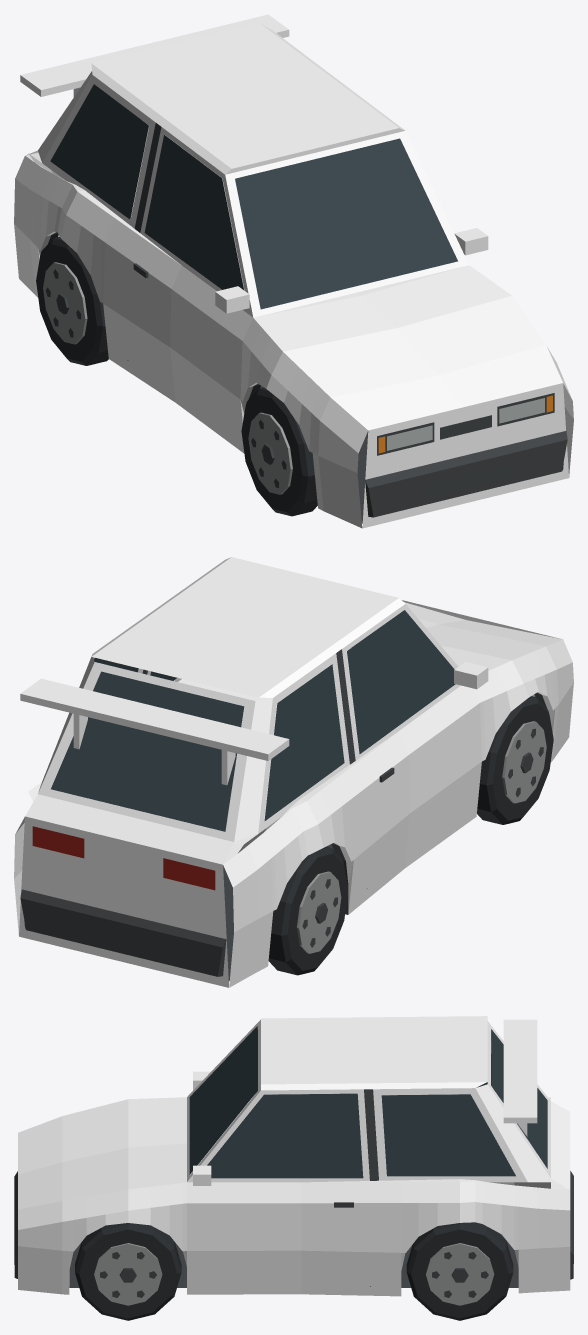
File: sanga_kamui_corrida.glb
3 views of the same model, one above another, from view 1: azimuth 30°, elevation 25°; view 2: azimuth 150°, elevation 25°; view 3: azimuth 270°, elevation 25° (orthographic). The views are drawn at different scales.
Visible parts, largest first — view 1: sanga_kamui_corrida; view 2: sanga_kamui_corrida; view 3: sanga_kamui_corrida.
Boxes of the visible parts, left/top/right/bottom form: sanga_kamui_corrida: left=14, top=14, right=573, bottom=528; sanga_kamui_corrida: left=14, top=557, right=573, bottom=987; sanga_kamui_corrida: left=14, top=1016, right=573, bottom=1320.
Size of the model in its own units: 1.6 by 1.61 by 3.66.
8 materials, 1 textured.
